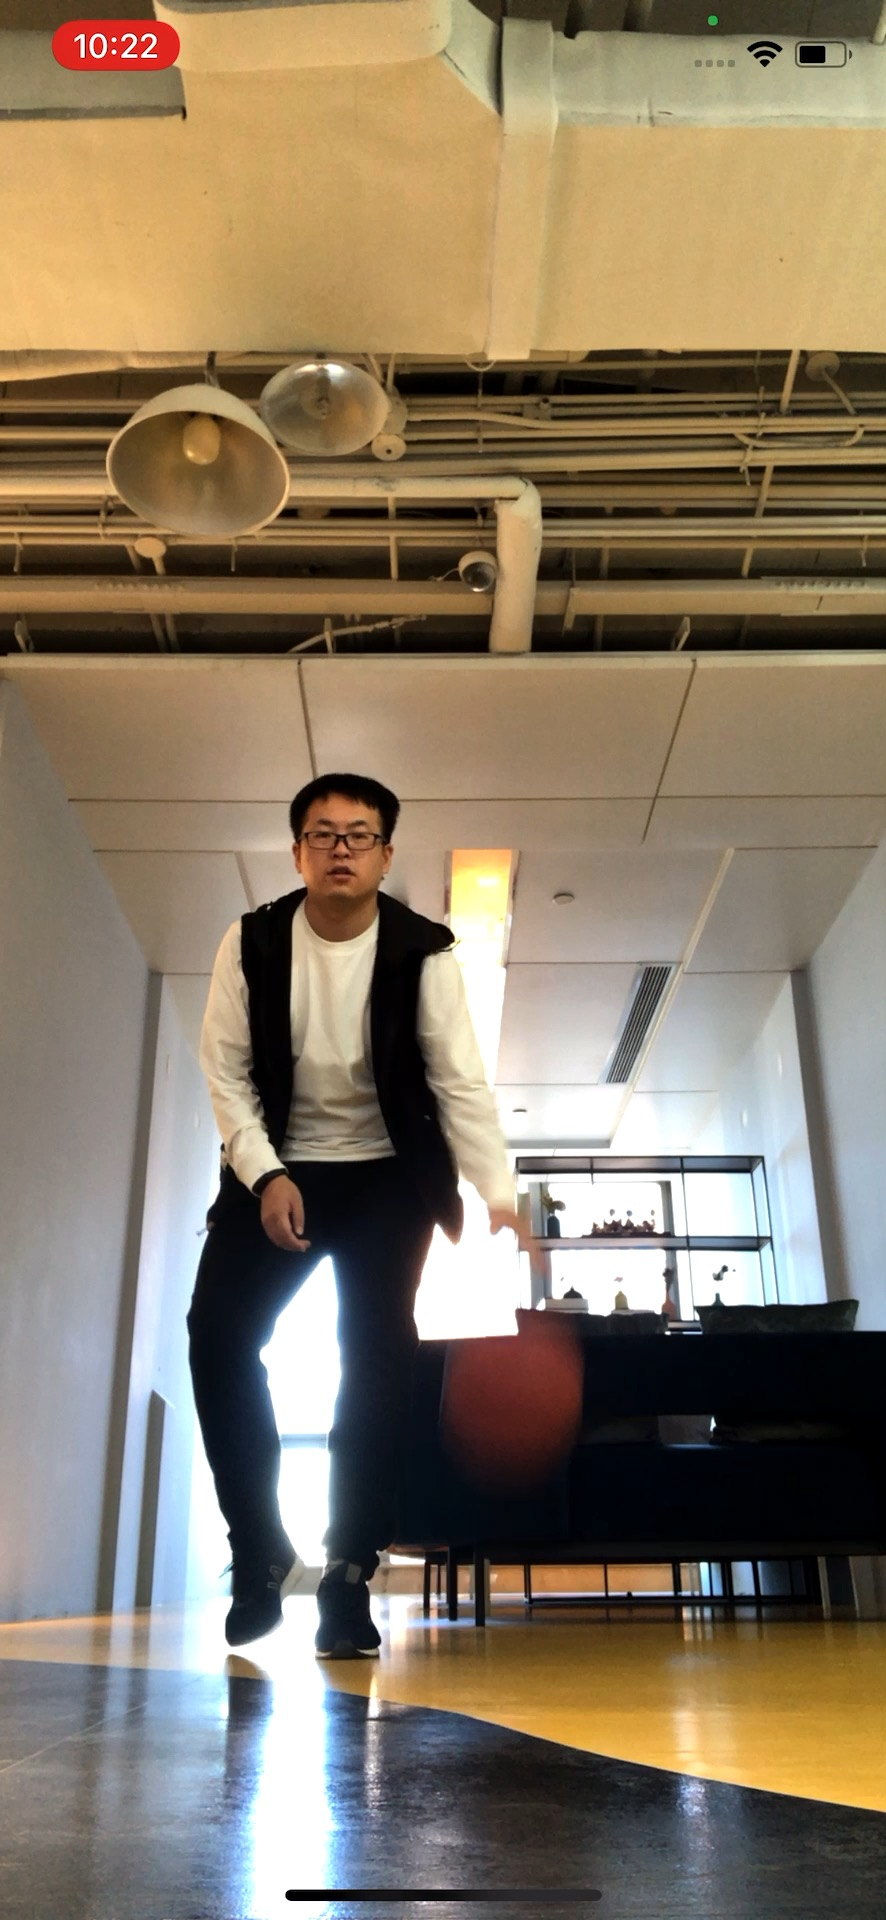ball: (437, 1341, 584, 1453)
